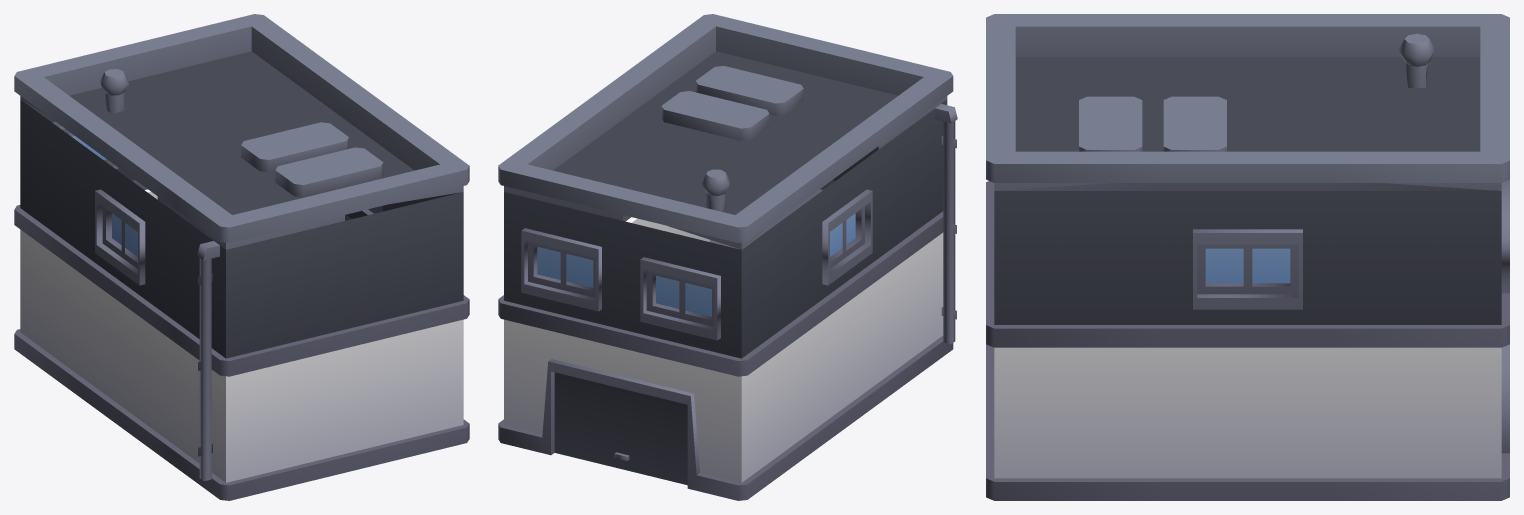
Rendered from building-o.lod.glb.
3 renders of one model, left to right at view 1: azimuth 30°, elevation 25°; view 2: azimuth 150°, elevation 25°; view 3: azimuth 270°, elevation 25°, orthographic. The views are drawn at different scales.
Visible parts, largest first — view 1: building-o; view 2: building-o; view 3: building-o.
Boxes of the visible parts, x1,y1,x2,y2 form: building-o: (14, 14, 469, 500); building-o: (498, 14, 957, 500); building-o: (986, 14, 1509, 500).
Size of the model in its own units: 0.8836 by 0.918 by 1.24.
Materials: 1 (1 with a texture image).
